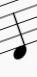note: (8, 1, 29, 61)
